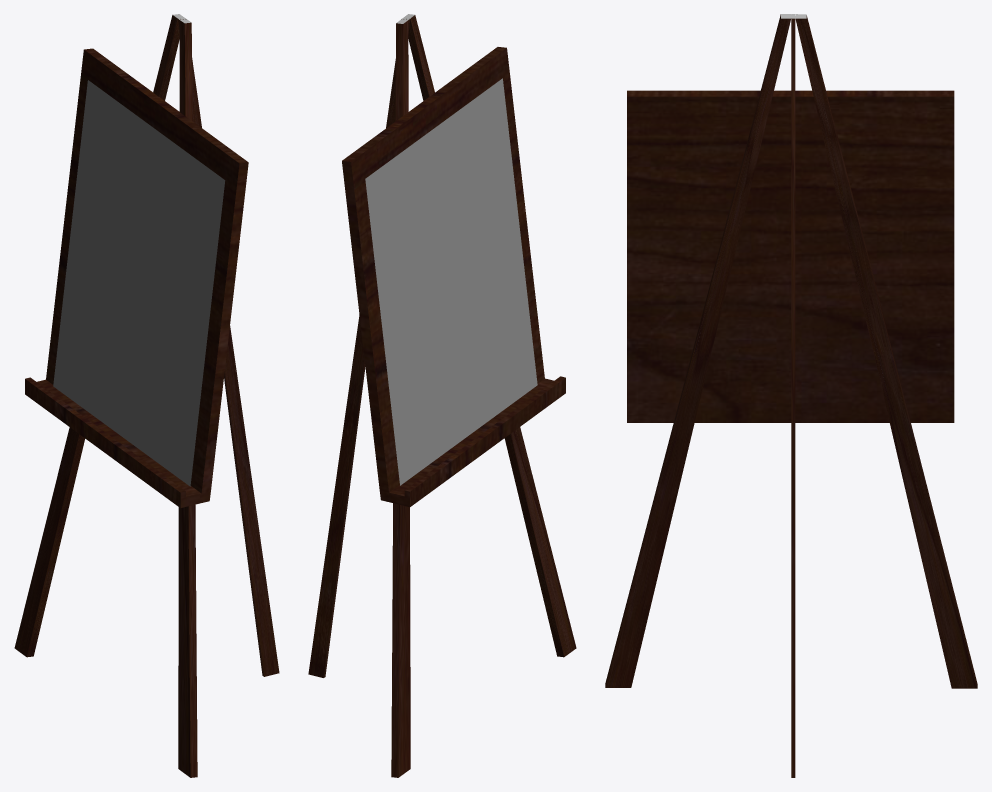
File: Schildersezel_WithoutSecretFactoryHack.fbx
The picture shows the model from 3 angles, left to right: view 1: azimuth 30°, elevation 25°; view 2: azimuth 150°, elevation 25°; view 3: azimuth 270°, elevation 25°; orthographic projection. The views are drawn at different scales.
Parts seen in each view (by area): view 1: polySurface11; view 2: polySurface11; view 3: polySurface11.
Part boxes in pixels (box(x1,y1,x2,y2)): polySurface11: box(14, 14, 279, 777); polySurface11: box(308, 14, 576, 777); polySurface11: box(605, 14, 977, 777).
Bounding box in the file's own units: 4.38 × 16 × 7.57.
2 materials, 1 textured.
